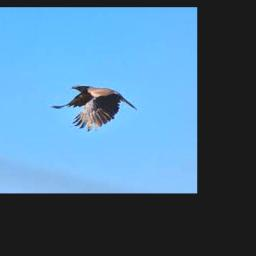Crow: (50, 85, 137, 131)
